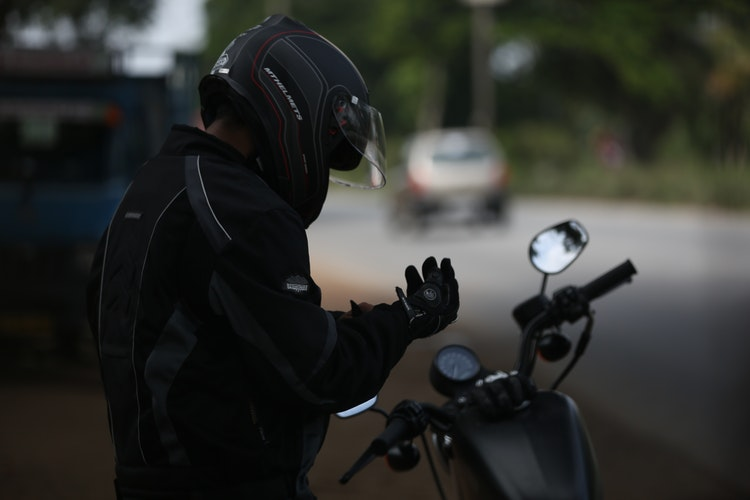helmet: (210, 26, 388, 184)
